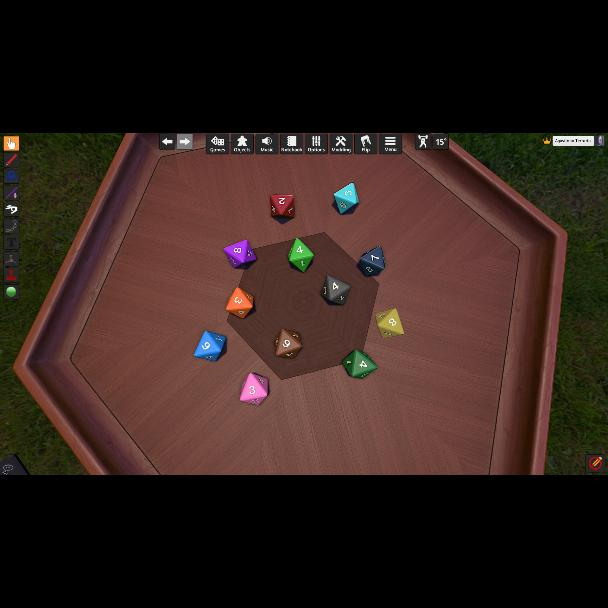d8: (342, 350, 376, 378), (320, 275, 350, 305), (194, 331, 224, 361), (224, 240, 256, 268), (287, 238, 313, 272), (240, 374, 268, 404), (332, 183, 358, 215), (228, 286, 254, 318), (359, 247, 384, 277), (276, 330, 302, 358), (376, 309, 402, 335), (270, 194, 294, 218)
